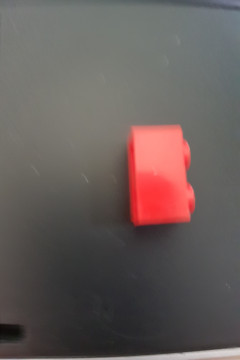1x2 red: (124, 125, 197, 226)
